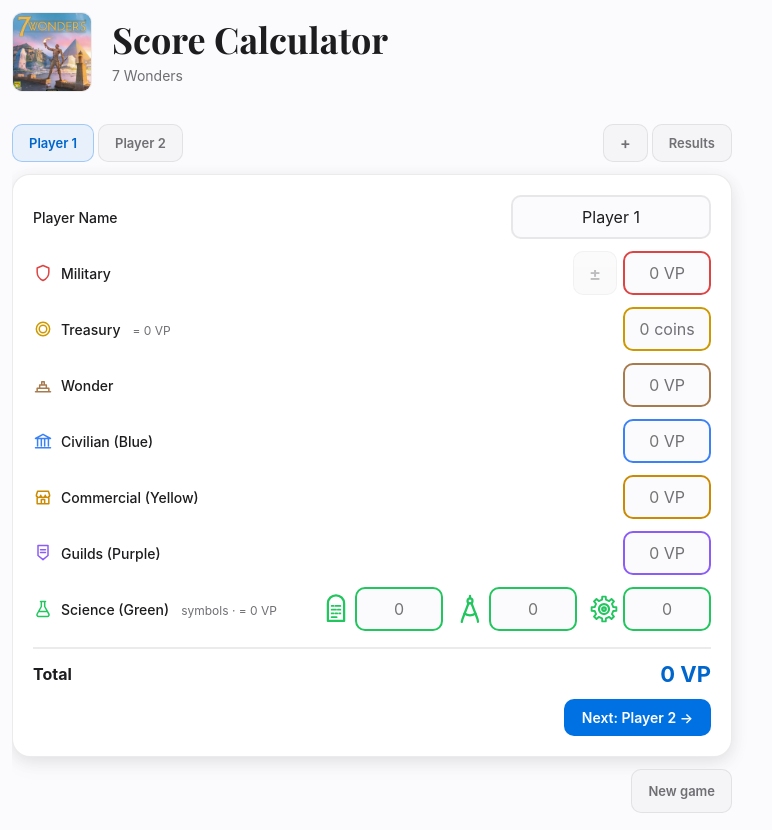
ScoreCalculatorPage › breaks a tie on points with coins, and says so
In the number field labelled "Civilian (Blue)": (654, 441) x1=553 y1=421 x2=755 y2=461, type "8"
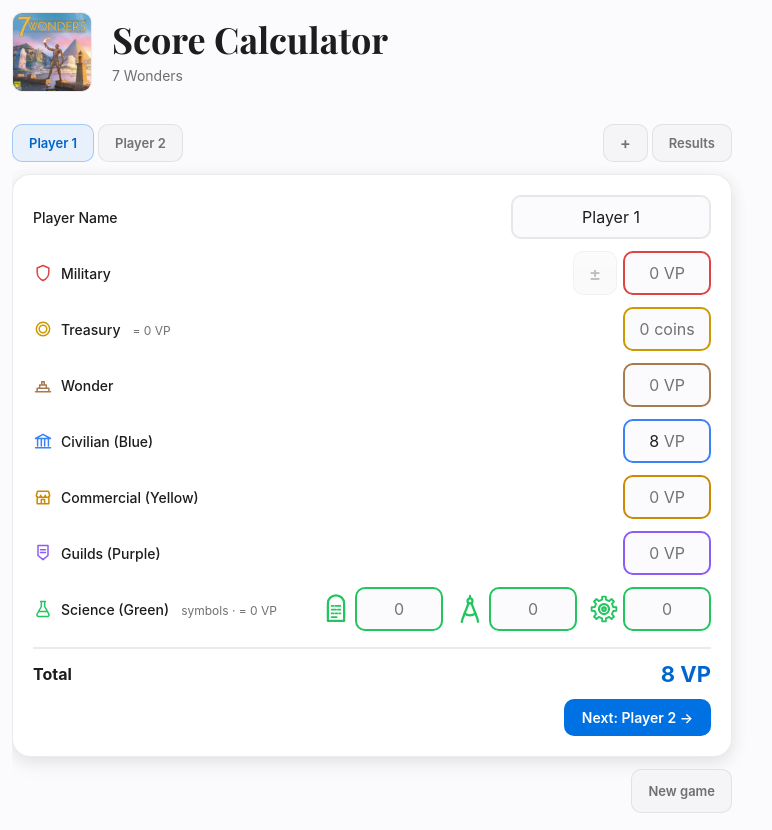
In the number field labelled "Treasury = 0 VP": (644, 329) x1=543 y1=309 x2=746 y2=349, type "5"
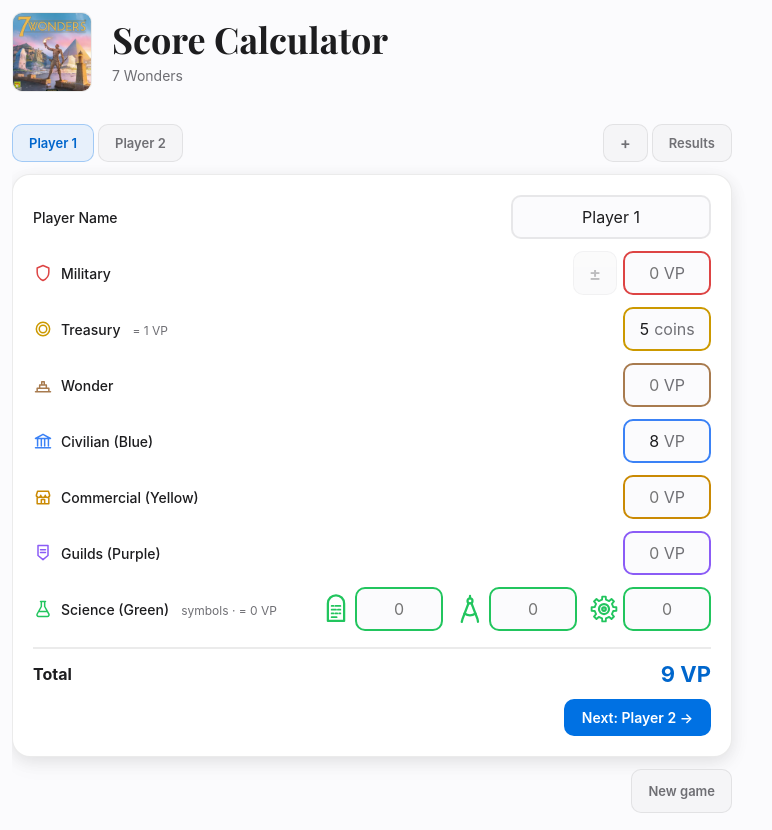
Click the button "Player 2": (140, 143) x1=99 y1=125 x2=182 y2=161
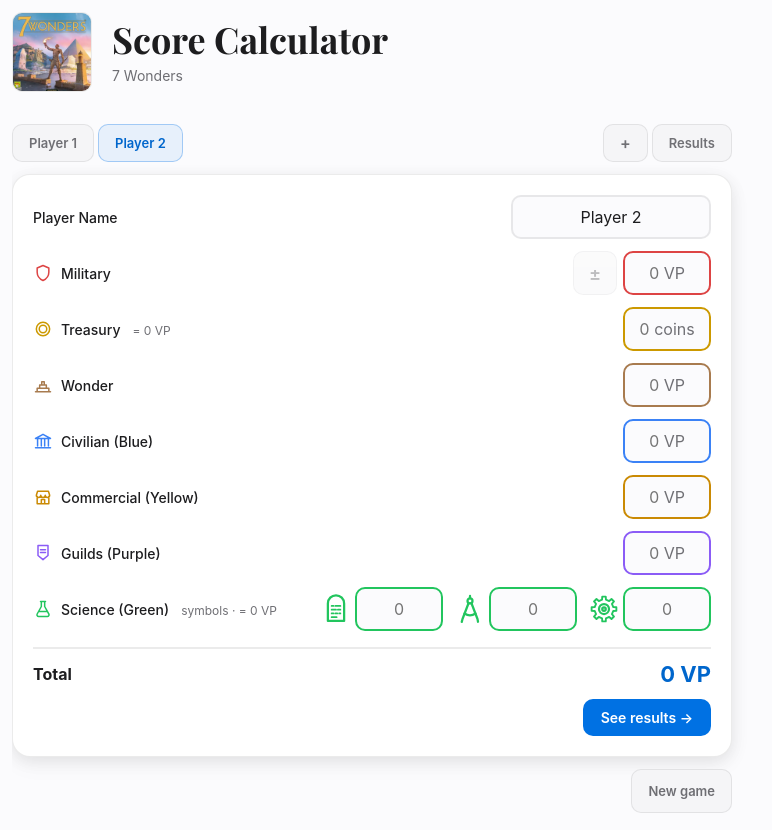
In the number field labelled "Civilian (Blue)": (654, 441) x1=553 y1=421 x2=755 y2=461, type "8"
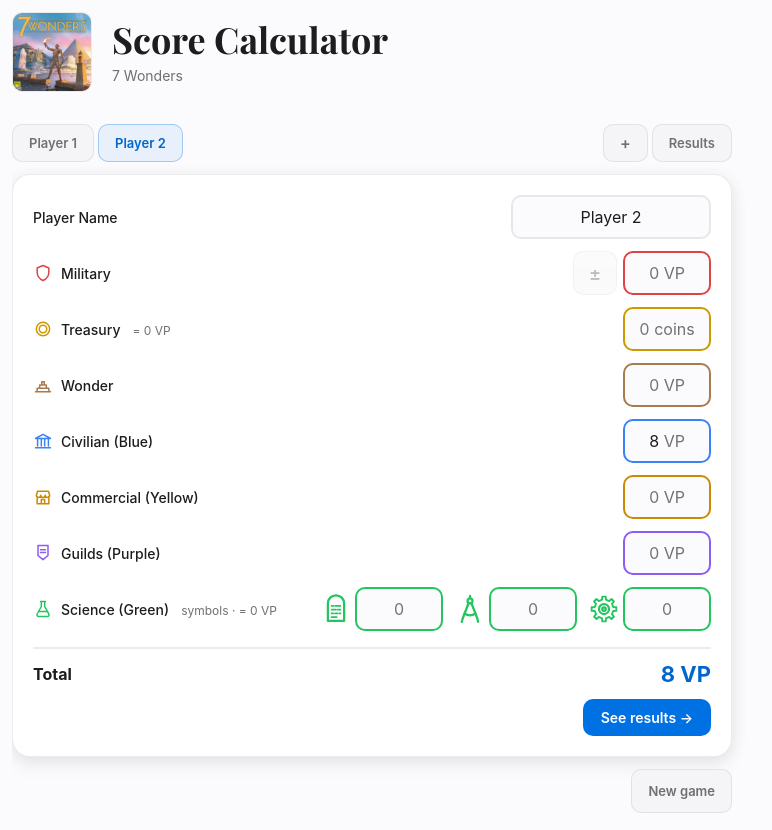
In the number field labelled "Treasury = 0 VP": (644, 329) x1=543 y1=309 x2=746 y2=349, type "3"
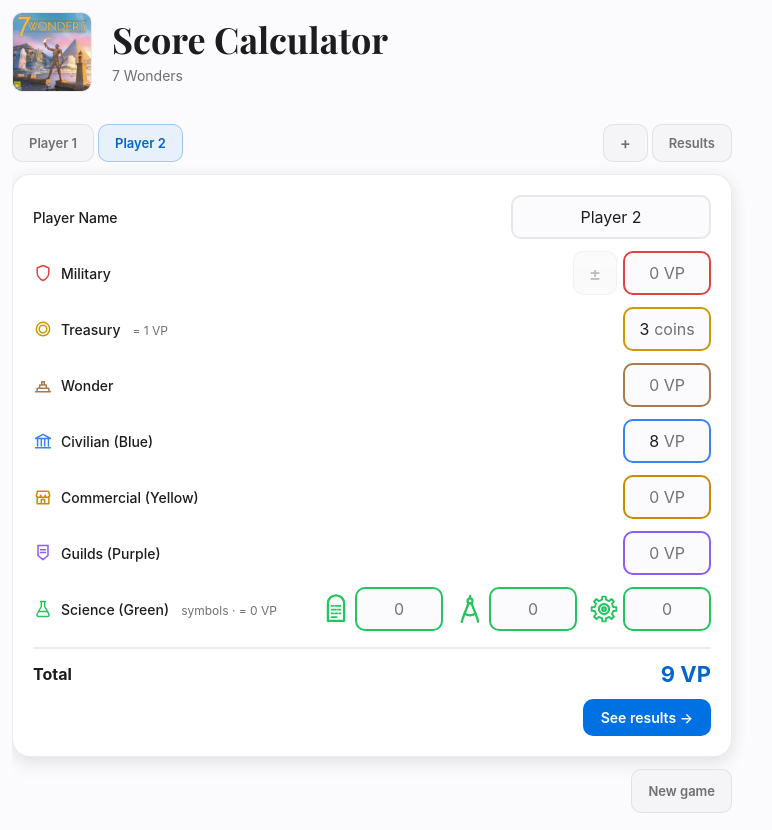
Click the button "Results": (692, 143) x1=652 y1=124 x2=732 y2=162
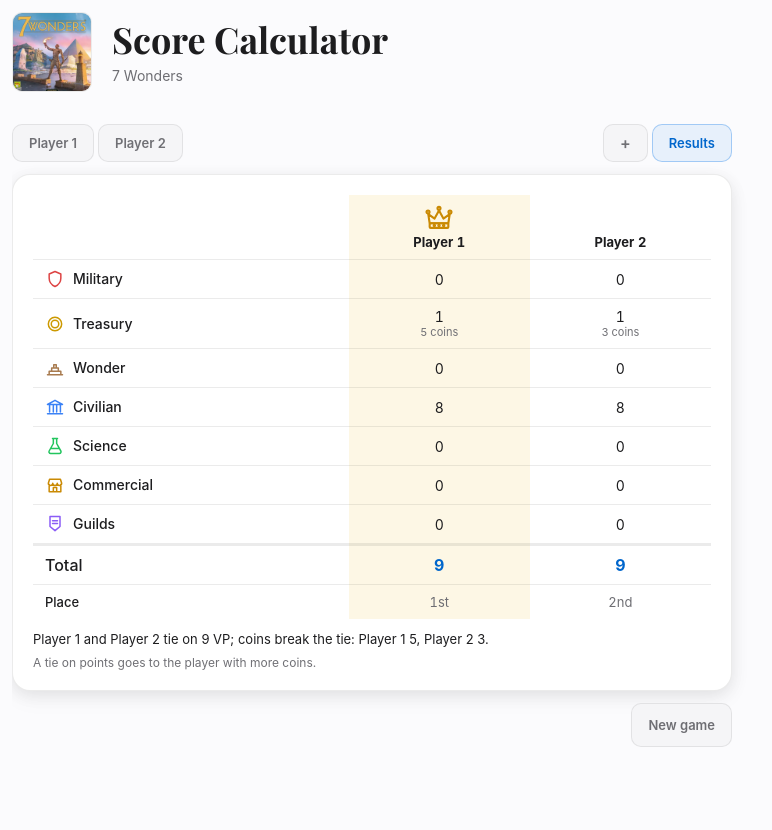
Now the cells read "1st", "2nd", in this order, box x1=349 y1=585 x2=530 y2=619; x1=530 y1=585 x2=711 y2=619
Now the text "Player 1 and Player 2 tie on 9 VP; coins break the tie: Player 1 5, Player 2 3." is shown, box x1=33 y1=631 x2=489 y2=647
